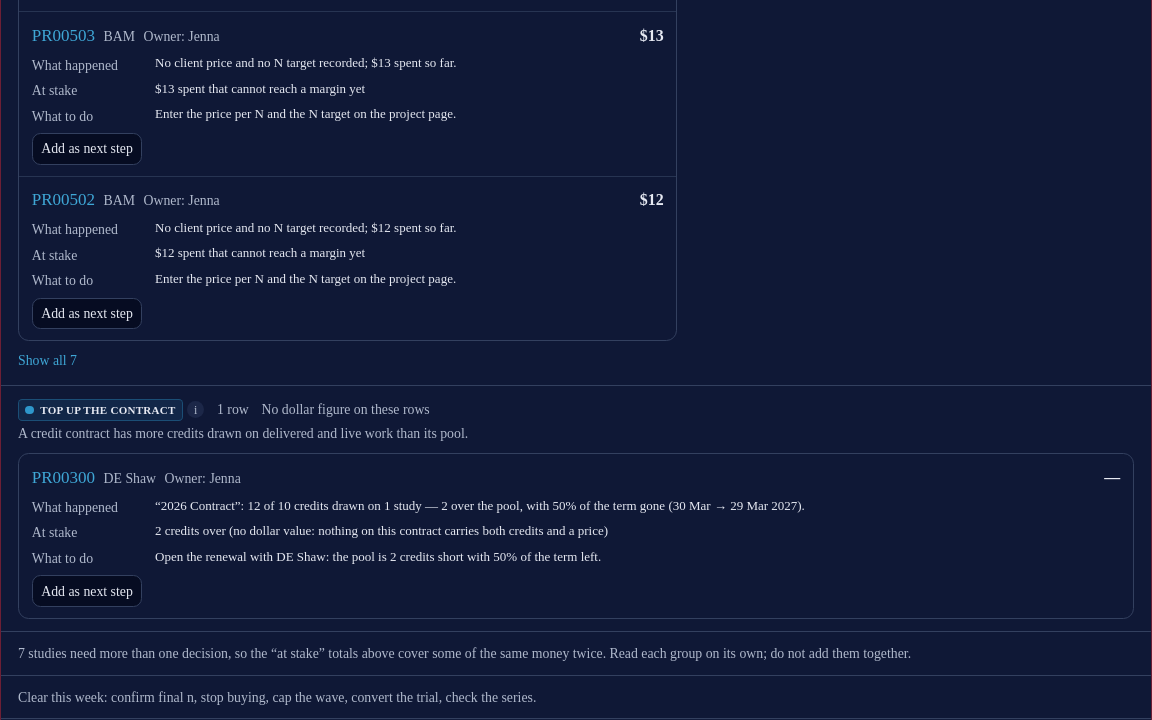
Scenario: ThisWeekTab › collapses a group over five rows behind a real "Show all N"
(page scrolled)
Click the button "Show all 7": point(48, 360) [18,350,77,371]
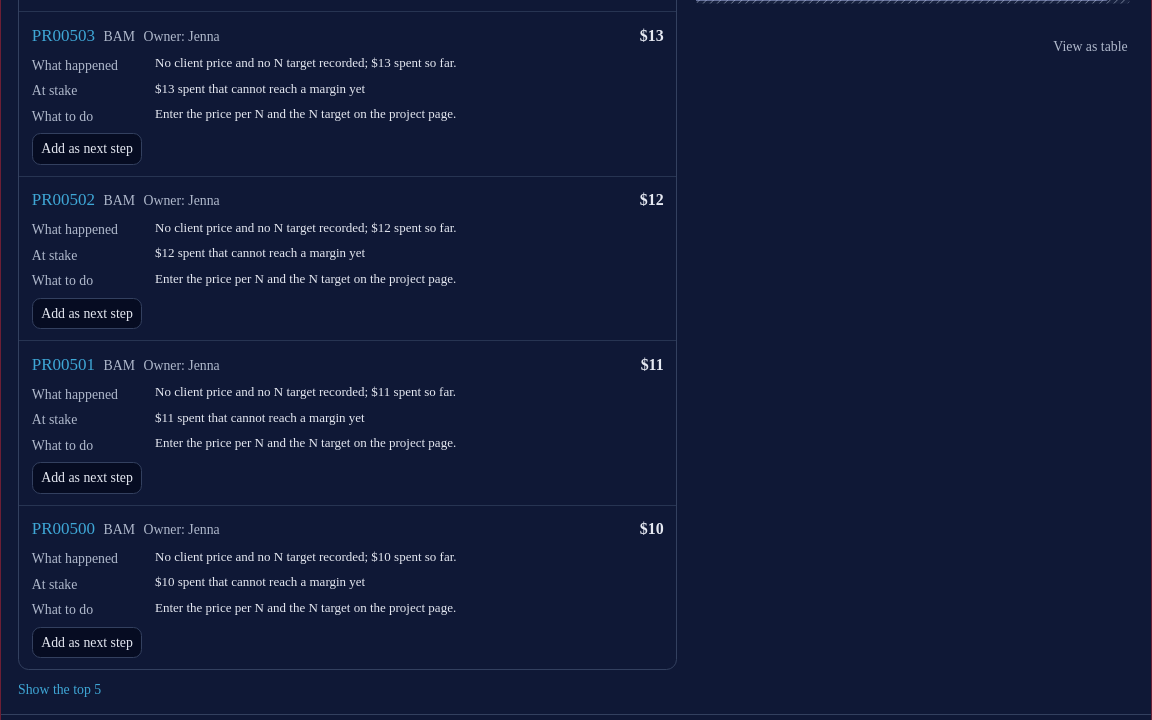
Check: the text "Add as next step" is shown 7 times
Check: the button "Show the top 5" is expanded, box [18,679,101,700]
